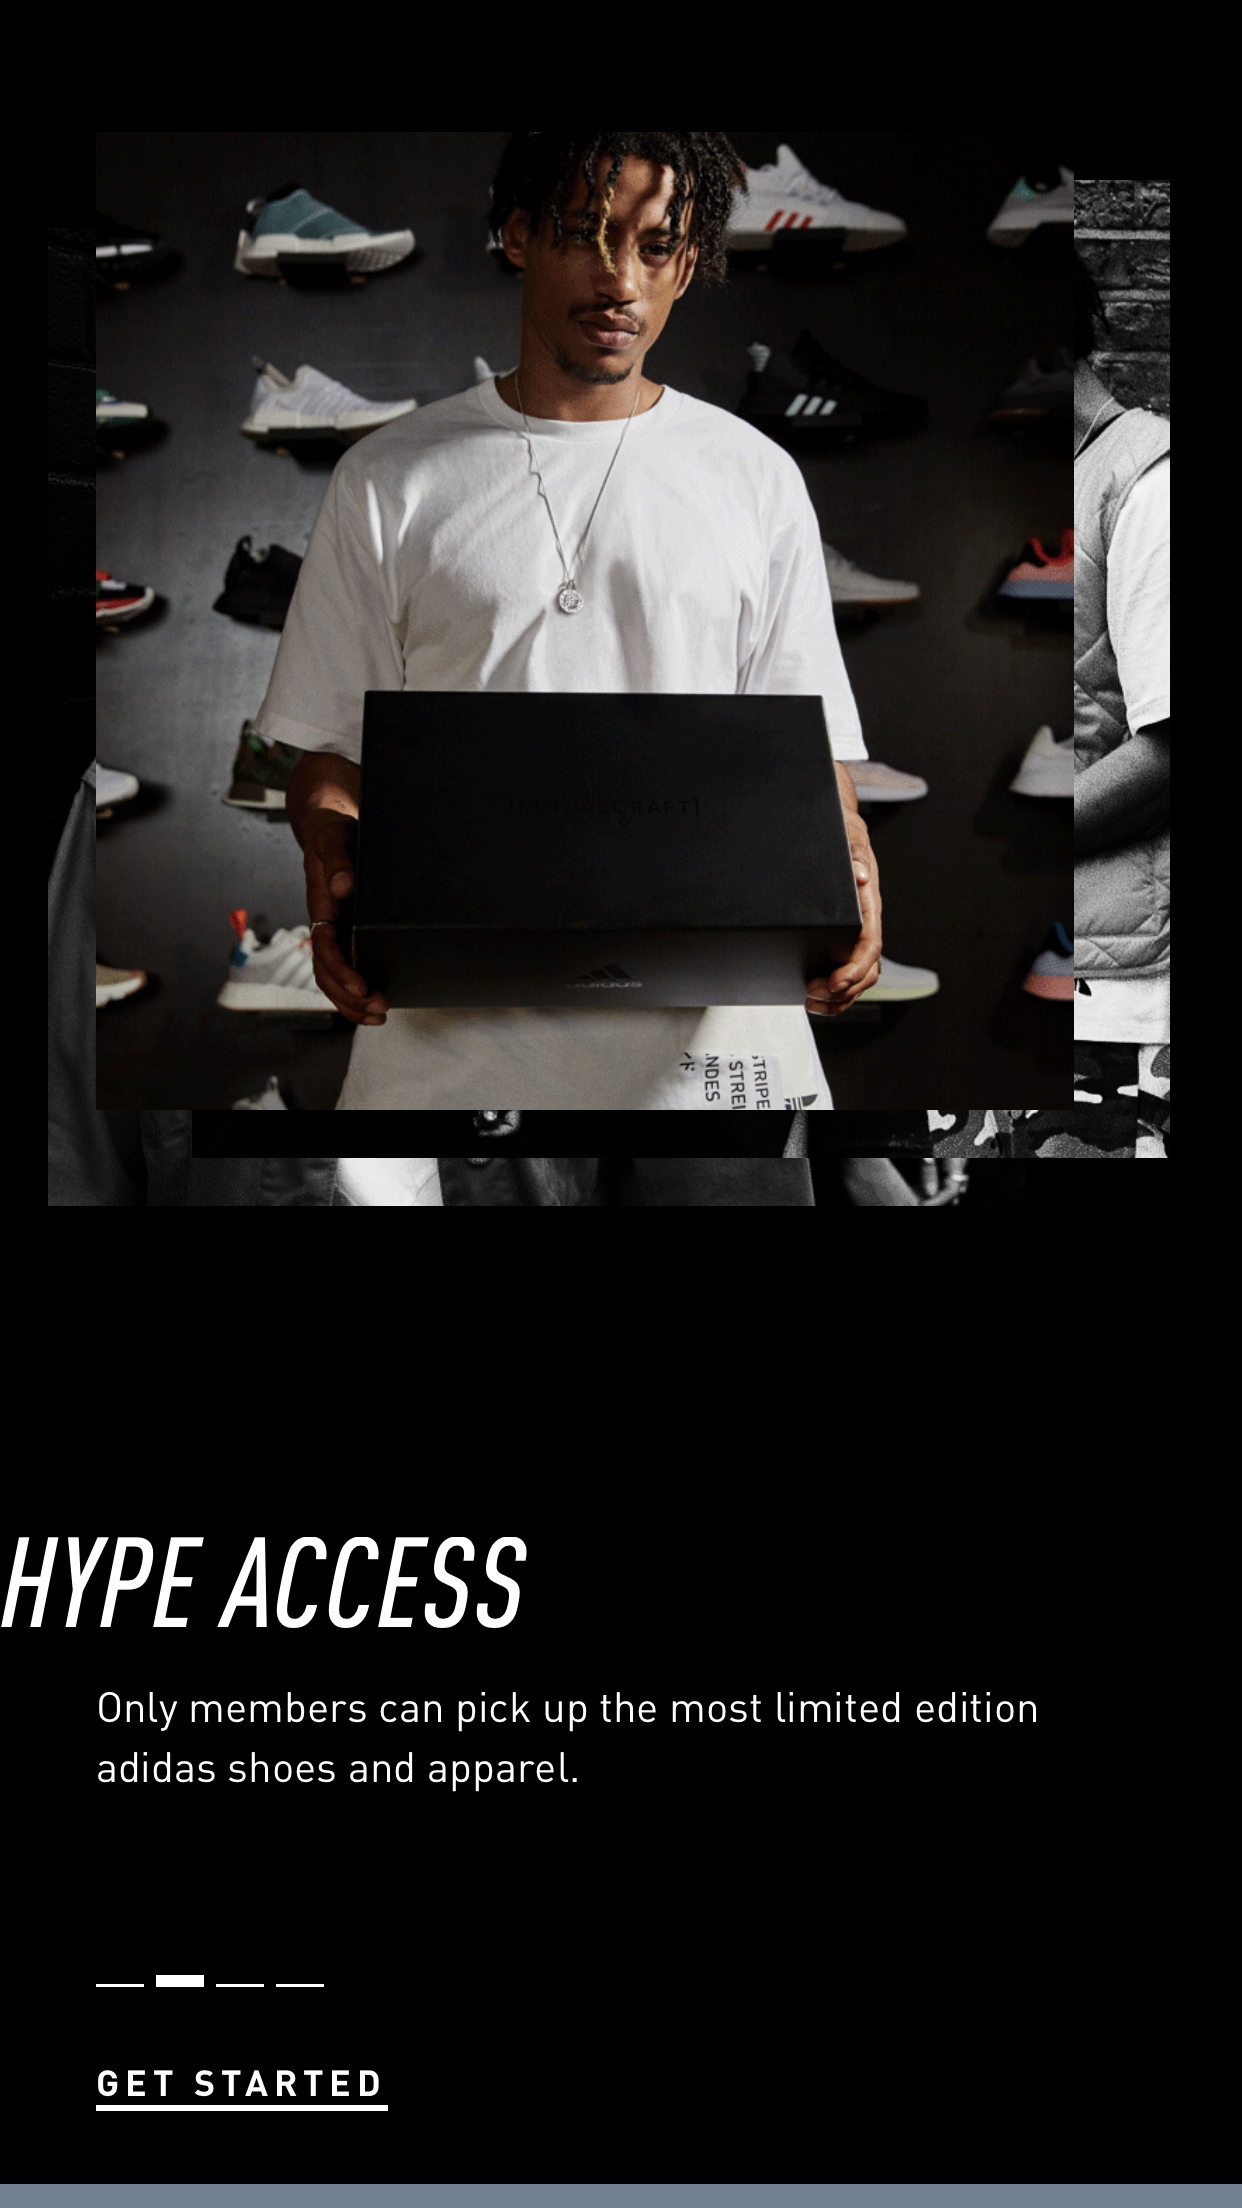Image: (49, 136, 1172, 1206)
PageIndicator: (96, 1974, 325, 1988)
Text: (97, 1689, 1037, 1792), (2, 1536, 529, 1630), (96, 2068, 390, 2112)
